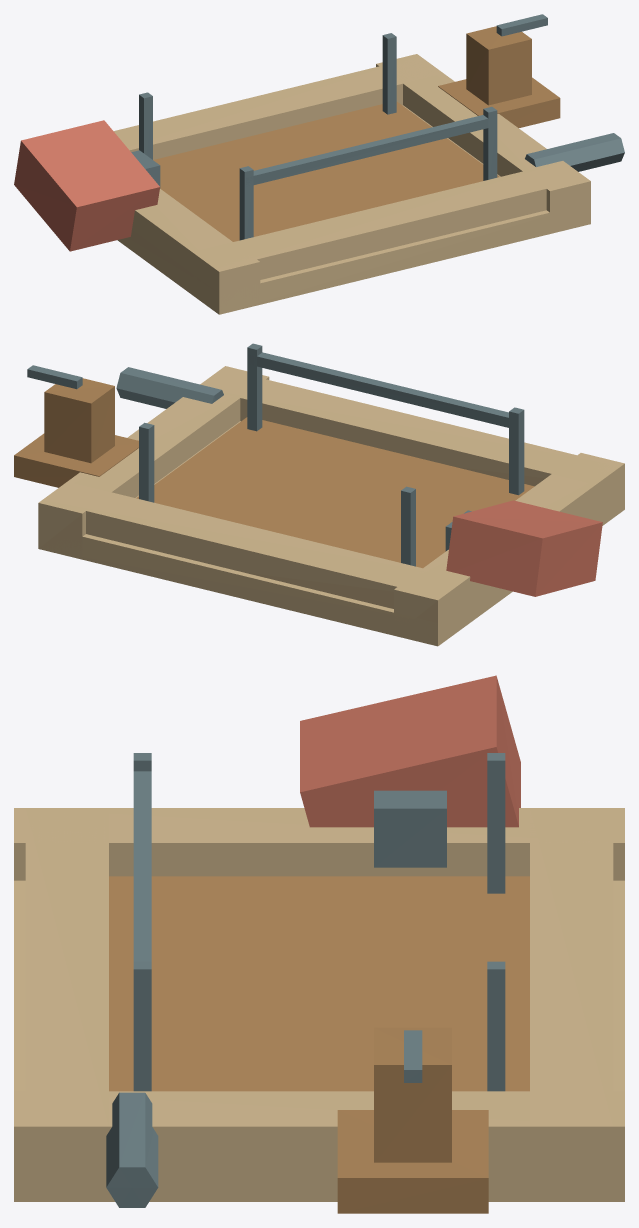
The model's file is manure-pit.source.glb.
3 views of the same model, one above another, from view 1: azimuth 30°, elevation 25°; view 2: azimuth 150°, elevation 25°; view 3: azimuth 270°, elevation 25° (orthographic). The views are drawn at different scales.
Parts seen in each view (by area): view 1: manure-pit-low-reinforced-safety-curb-mesh (×4), manure-pit-dark-contained-pit-interior-cue-mesh, manure-pit-covered-manure-inlet-chute-mesh, manure-pit-reinforced-concrete-pit-slab-mesh, manure-pit-service-pump-valve-box-mesh, manure-pit-compact-safety-guard-post-mesh (×4), manure-pit-front-safety-guard-rail-mesh, manure-pit-small-service-pump-platform-mesh, manure-pit-removal-drain-access-pipe-mesh, manure-pit-visible-isolation-valve-handle-mesh, manure-pit-inlet-chute-collar-mesh; view 2: manure-pit-low-reinforced-safety-curb-mesh (×4), manure-pit-dark-contained-pit-interior-cue-mesh, manure-pit-reinforced-concrete-pit-slab-mesh, manure-pit-covered-manure-inlet-chute-mesh, manure-pit-service-pump-valve-box-mesh, manure-pit-compact-safety-guard-post-mesh (×4), manure-pit-front-safety-guard-rail-mesh, manure-pit-small-service-pump-platform-mesh, manure-pit-removal-drain-access-pipe-mesh, manure-pit-visible-isolation-valve-handle-mesh; view 3: manure-pit-low-reinforced-safety-curb-mesh (×4), manure-pit-dark-contained-pit-interior-cue-mesh, manure-pit-covered-manure-inlet-chute-mesh, manure-pit-reinforced-concrete-pit-slab-mesh, manure-pit-small-service-pump-platform-mesh, manure-pit-service-pump-valve-box-mesh, manure-pit-compact-safety-guard-post-mesh (×3), manure-pit-inlet-chute-collar-mesh, manure-pit-removal-drain-access-pipe-mesh, manure-pit-front-safety-guard-rail-mesh, manure-pit-visible-isolation-valve-handle-mesh.
Part boxes in pixels (<box>): manure-pit-low-reinforced-safety-curb-mesh (×4): <box>113,54,590,313</box>; manure-pit-dark-contained-pit-interior-cue-mesh: <box>153,101,499,241</box>; manure-pit-covered-manure-inlet-chute-mesh: <box>14,120,159,251</box>; manure-pit-reinforced-concrete-pit-slab-mesh: <box>117,105,549,314</box>; manure-pit-service-pump-valve-box-mesh: <box>466,26,531,105</box>; manure-pit-compact-safety-guard-post-mesh (×4): <box>139,33,497,240</box>; manure-pit-front-safety-guard-rail-mesh: <box>246,115,488,186</box>; manure-pit-small-service-pump-platform-mesh: <box>438,77,560,127</box>; manure-pit-removal-drain-access-pipe-mesh: <box>525,133,624,171</box>; manure-pit-visible-isolation-valve-handle-mesh: <box>496,14,547,36</box>; manure-pit-inlet-chute-collar-mesh: <box>131,150,160,188</box>; manure-pit-low-reinforced-safety-curb-mesh (×4): <box>38,366,624,645</box>; manure-pit-dark-contained-pit-interior-cue-mesh: <box>136,417,534,568</box>; manure-pit-reinforced-concrete-pit-slab-mesh: <box>38,421,624,646</box>; manure-pit-covered-manure-inlet-chute-mesh: <box>446,500,602,596</box>; manure-pit-service-pump-valve-box-mesh: <box>44,378,114,463</box>; manure-pit-compact-safety-guard-post-mesh (×4): <box>139,343,524,566</box>; manure-pit-front-safety-guard-rail-mesh: <box>248,352,508,427</box>; manure-pit-small-service-pump-platform-mesh: <box>14,433,138,487</box>; manure-pit-removal-drain-access-pipe-mesh: <box>116,367,223,408</box>; manure-pit-visible-isolation-valve-handle-mesh: <box>27,365,82,389</box>; manure-pit-low-reinforced-safety-curb-mesh (×4): <box>14,808,624,1201</box>; manure-pit-dark-contained-pit-interior-cue-mesh: <box>109,876,529,1091</box>; manure-pit-covered-manure-inlet-chute-mesh: <box>300,675,520,827</box>; manure-pit-reinforced-concrete-pit-slab-mesh: <box>14,880,624,1201</box>; manure-pit-small-service-pump-platform-mesh: <box>337,1110,488,1213</box>; manure-pit-service-pump-valve-box-mesh: <box>374,1027,451,1162</box>; manure-pit-compact-safety-guard-post-mesh (×3): <box>133,753,505,1091</box>; manure-pit-inlet-chute-collar-mesh: <box>374,790,446,867</box>; manure-pit-removal-drain-access-pipe-mesh: <box>106,1092,158,1207</box>; manure-pit-front-safety-guard-rail-mesh: <box>133,771,151,961</box>; manure-pit-visible-isolation-valve-handle-mesh: <box>404,1030,422,1082</box>.
Size of the model in its own units: 3.9 by 0.8075 by 2.35.
